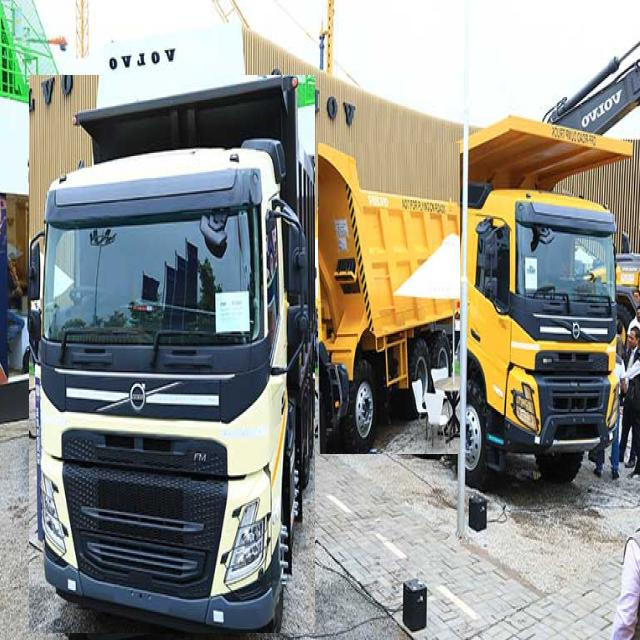truck: (29, 75, 315, 633), (466, 119, 622, 488), (318, 143, 460, 454)
